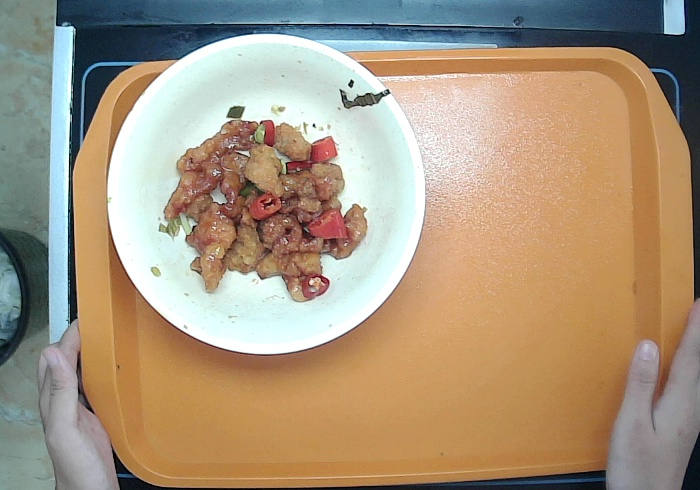ZNLD-Da_Tang_Wan: (96, 33, 429, 367)
